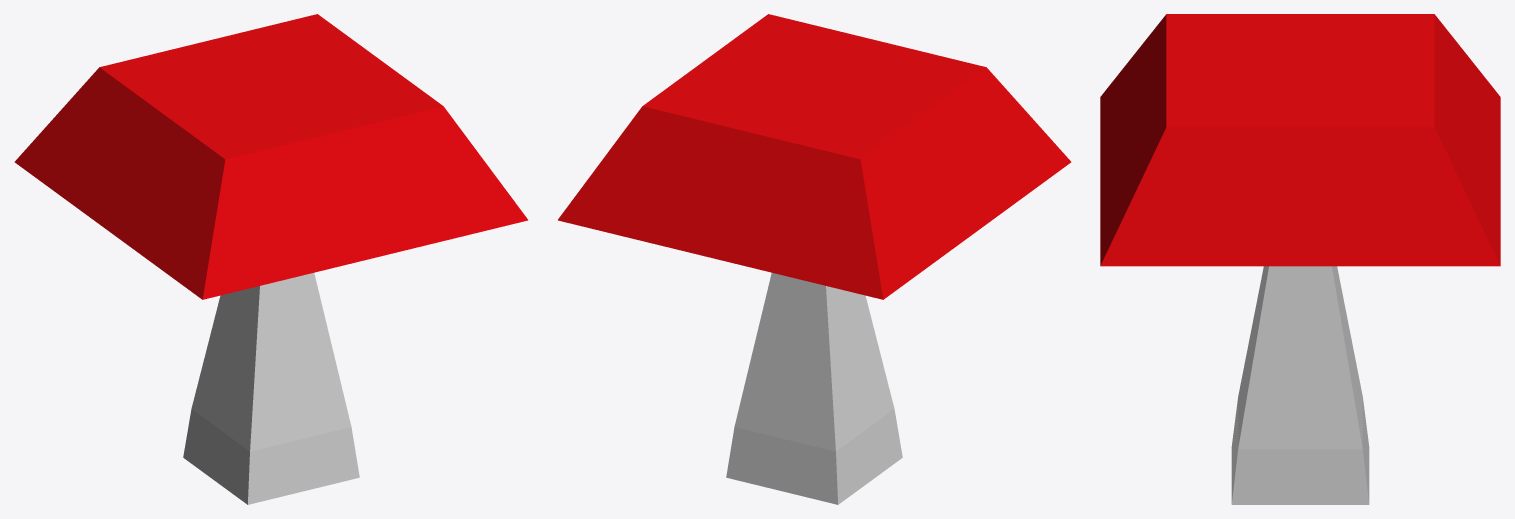
Rendered from griboshic.fbx.
3 views of the same model, side by side, from view 1: azimuth 30°, elevation 25°; view 2: azimuth 150°, elevation 25°; view 3: azimuth 270°, elevation 25° (orthographic). The views are drawn at different scales.
Visible parts, largest first — view 1: Cube.001, Cube; view 2: Cube.001, Cube; view 3: Cube.001, Cube.
Part boxes in pixels (x1,y1,x2,y2): Cube.001: (14,14,527,299); Cube: (183,273,359,504); Cube.001: (558,14,1071,299); Cube: (726,273,902,504); Cube.001: (1100,14,1500,266); Cube: (1231,266,1369,504).
Size of the model in its own units: 132 by 148 by 132.
